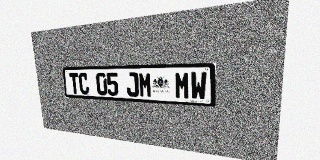0: (95, 72, 108, 95)
5: (106, 72, 119, 96)
C: (78, 73, 89, 94)
J: (126, 72, 139, 97)
M: (174, 72, 190, 99), (138, 72, 152, 98)
T: (69, 73, 80, 94)
W: (190, 71, 207, 100)
